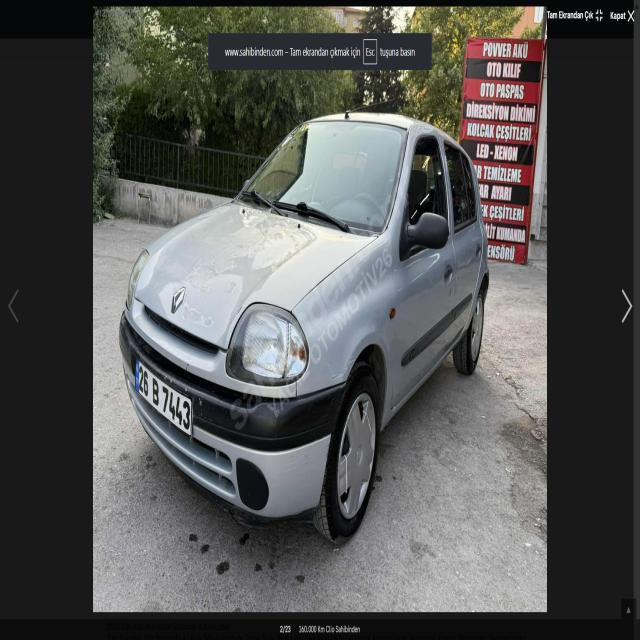renault: (170, 285, 187, 315)
